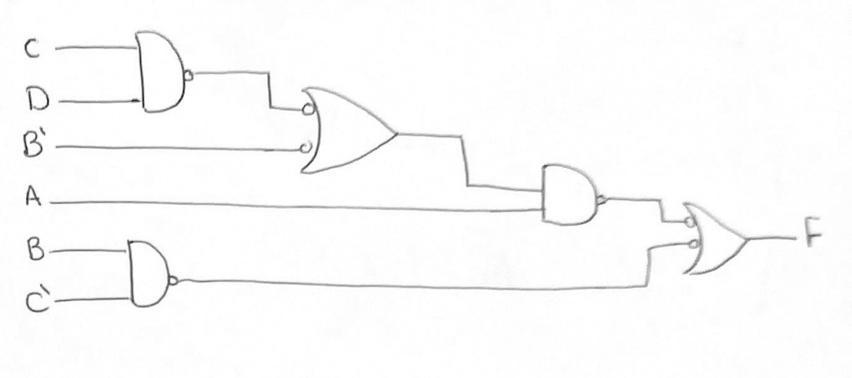NAND: (531, 148, 615, 238), (128, 24, 202, 122), (117, 226, 191, 323)
OR: (291, 63, 410, 180), (674, 193, 757, 283)
